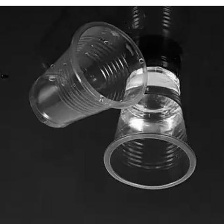glass: (99, 57, 200, 204), (27, 18, 150, 133)
